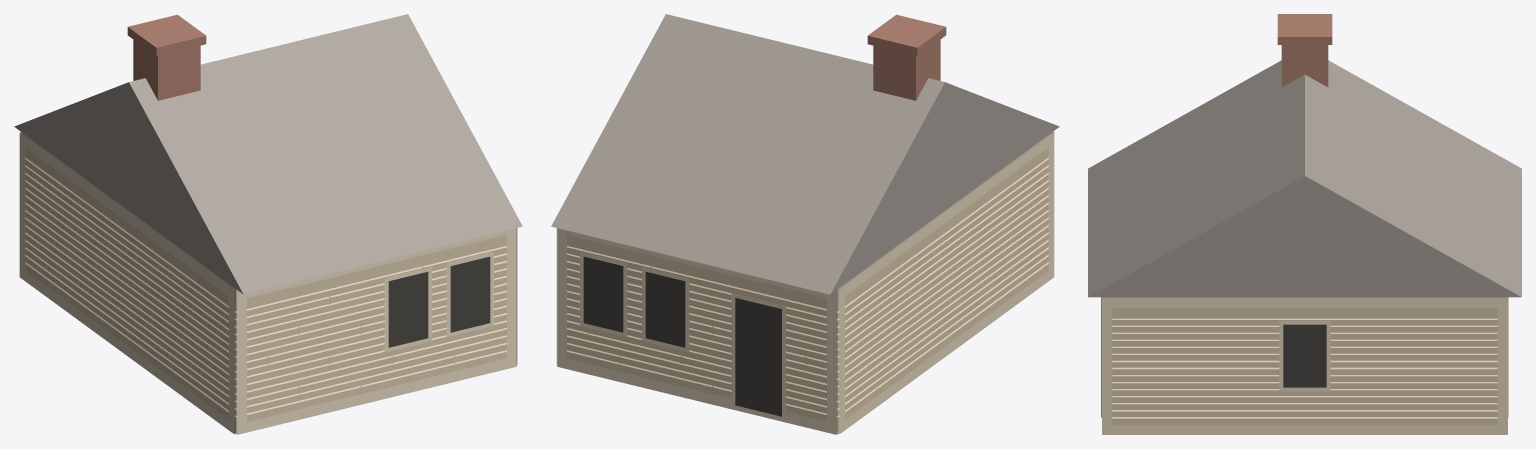
File: recon_1835_west_052__inferred_1835.glb
The picture shows the model from 3 angles, left to right: view 1: azimuth 30°, elevation 25°; view 2: azimuth 150°, elevation 25°; view 3: azimuth 270°, elevation 25°; orthographic projection. The views are drawn at different scales.
Parts seen in each view (by area): view 1: recon_1835_west_052__inferred_1835; view 2: recon_1835_west_052__inferred_1835; view 3: recon_1835_west_052__inferred_1835.
Part boxes in pixels (<box>): recon_1835_west_052__inferred_1835: <box>14,14,522,434</box>; recon_1835_west_052__inferred_1835: <box>551,14,1059,434</box>; recon_1835_west_052__inferred_1835: <box>1088,14,1521,434</box>.
Bounding box in the file's own units: 5.57 × 5.91 × 7.82.
